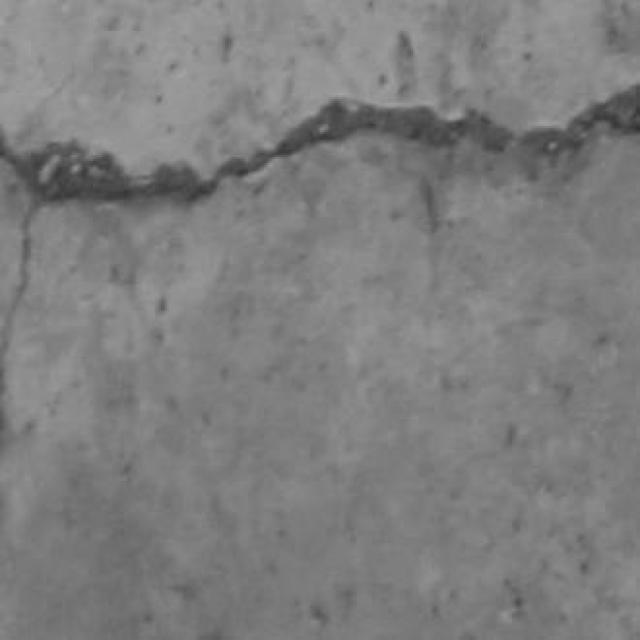crack: (0, 86, 639, 203), (0, 200, 38, 444)
